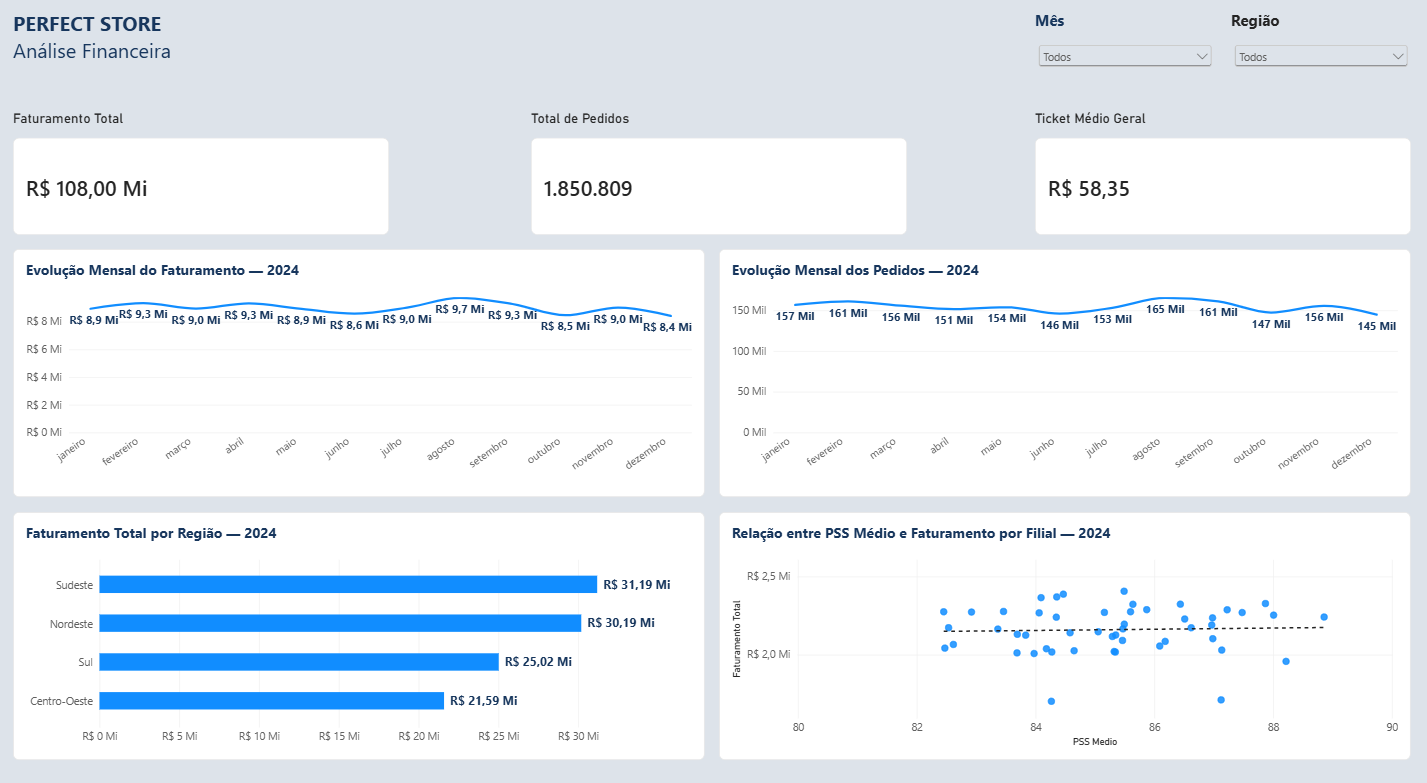

What the dashboard file says about the page in this screenshot:
{"tool":"powerbi","page":{"name":"Análise Financeira","canvas":[1920,1080],"ordinal":2},"visuals":[{"type":"cardVisual","title":"Faturamento Total","fields":{"Data":["projeto1_vendas_perfect_store.Faturamento Total"]},"box":[30,165,500,166],"z":0},{"type":"cardVisual","title":"Total de Pedidos","fields":{"Data":["projeto1_vendas_perfect_store.Total de Pedidos Exibição"]},"box":[720,165,500,166],"z":1000},{"type":"cardVisual","title":"Ticket Médio Geral","fields":{"Data":["projeto1_vendas_perfect_store.Ticket Medio Geral"]},"box":[1390,165,500,166.7],"z":2000},{"type":"lineChart","title":"Evolução Mensal do Faturamento — 2024","fields":{"Category":["projeto1_vendas_perfect_store.Nome_Mes"],"Y":["projeto1_vendas_perfect_store.Faturamento Total"]},"box":[30,350,920,330],"z":3000},{"type":"lineChart","title":"Evolução Mensal dos Pedidos — 2024","fields":{"Category":["projeto1_vendas_perfect_store.Nome_Mes"],"Y":["projeto1_vendas_perfect_store.Total de Pedidos"]},"box":[970,350,920,330],"z":4000},{"type":"clusteredBarChart","title":"Faturamento Total por Região — 2024","fields":{"Category":["projeto1_vendas_perfect_store.regiao"],"Y":["projeto1_vendas_perfect_store.Faturamento Total"]},"box":[30,700,920,330],"z":5000},{"type":"scatterChart","title":"Relação entre PSS Médio e Faturamento por Filial — 2024","fields":{"Category":["projeto1_vendas_perfect_store.codigo_filial"],"X":["projeto1_vendas_perfect_store.PSS Medio"],"Y":["projeto1_vendas_perfect_store.Faturamento Total"]},"box":[970,700,920,330],"z":6000},{"type":"textbox","box":[30,30,600,110],"z":7000},{"type":"slicer","title":"Mês","fields":{"Values":["projeto1_vendas_perfect_store.Nome_Mes"]},"box":[1390,30,240,110],"z":8000},{"type":"slicer","title":"Região","fields":{"Values":["projeto1_vendas_perfect_store.regiao"]},"box":[1650,30,240,110],"z":9000}]}

Visuals, with their boxes in screenshot pixels (x1, y1, x2, y2), scaled from the page's 1920x1080 canvas onto the 1427x783 screenshot:
"Faturamento Total" cardVisual: <region>22, 120, 394, 240</region>
"Total de Pedidos" cardVisual: <region>535, 120, 907, 240</region>
"Ticket Médio Geral" cardVisual: <region>1033, 120, 1405, 240</region>
"Evolução Mensal do Faturamento — 2024" lineChart: <region>22, 254, 706, 493</region>
"Evolução Mensal dos Pedidos — 2024" lineChart: <region>721, 254, 1405, 493</region>
"Faturamento Total por Região — 2024" clusteredBarChart: <region>22, 508, 706, 747</region>
"Relação entre PSS Médio e Faturamento por Filial — 2024" scatterChart: <region>721, 508, 1405, 747</region>
textbox: <region>22, 22, 468, 102</region>
"Mês" slicer: <region>1033, 22, 1211, 102</region>
"Região" slicer: <region>1226, 22, 1405, 102</region>
